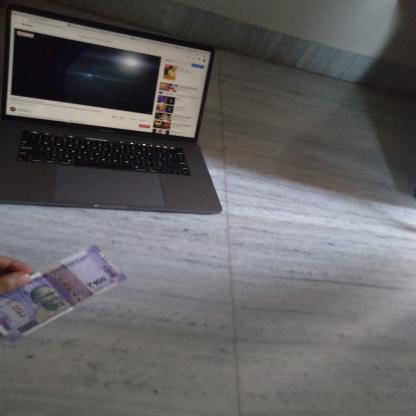New100Front: (0, 248, 109, 334)
